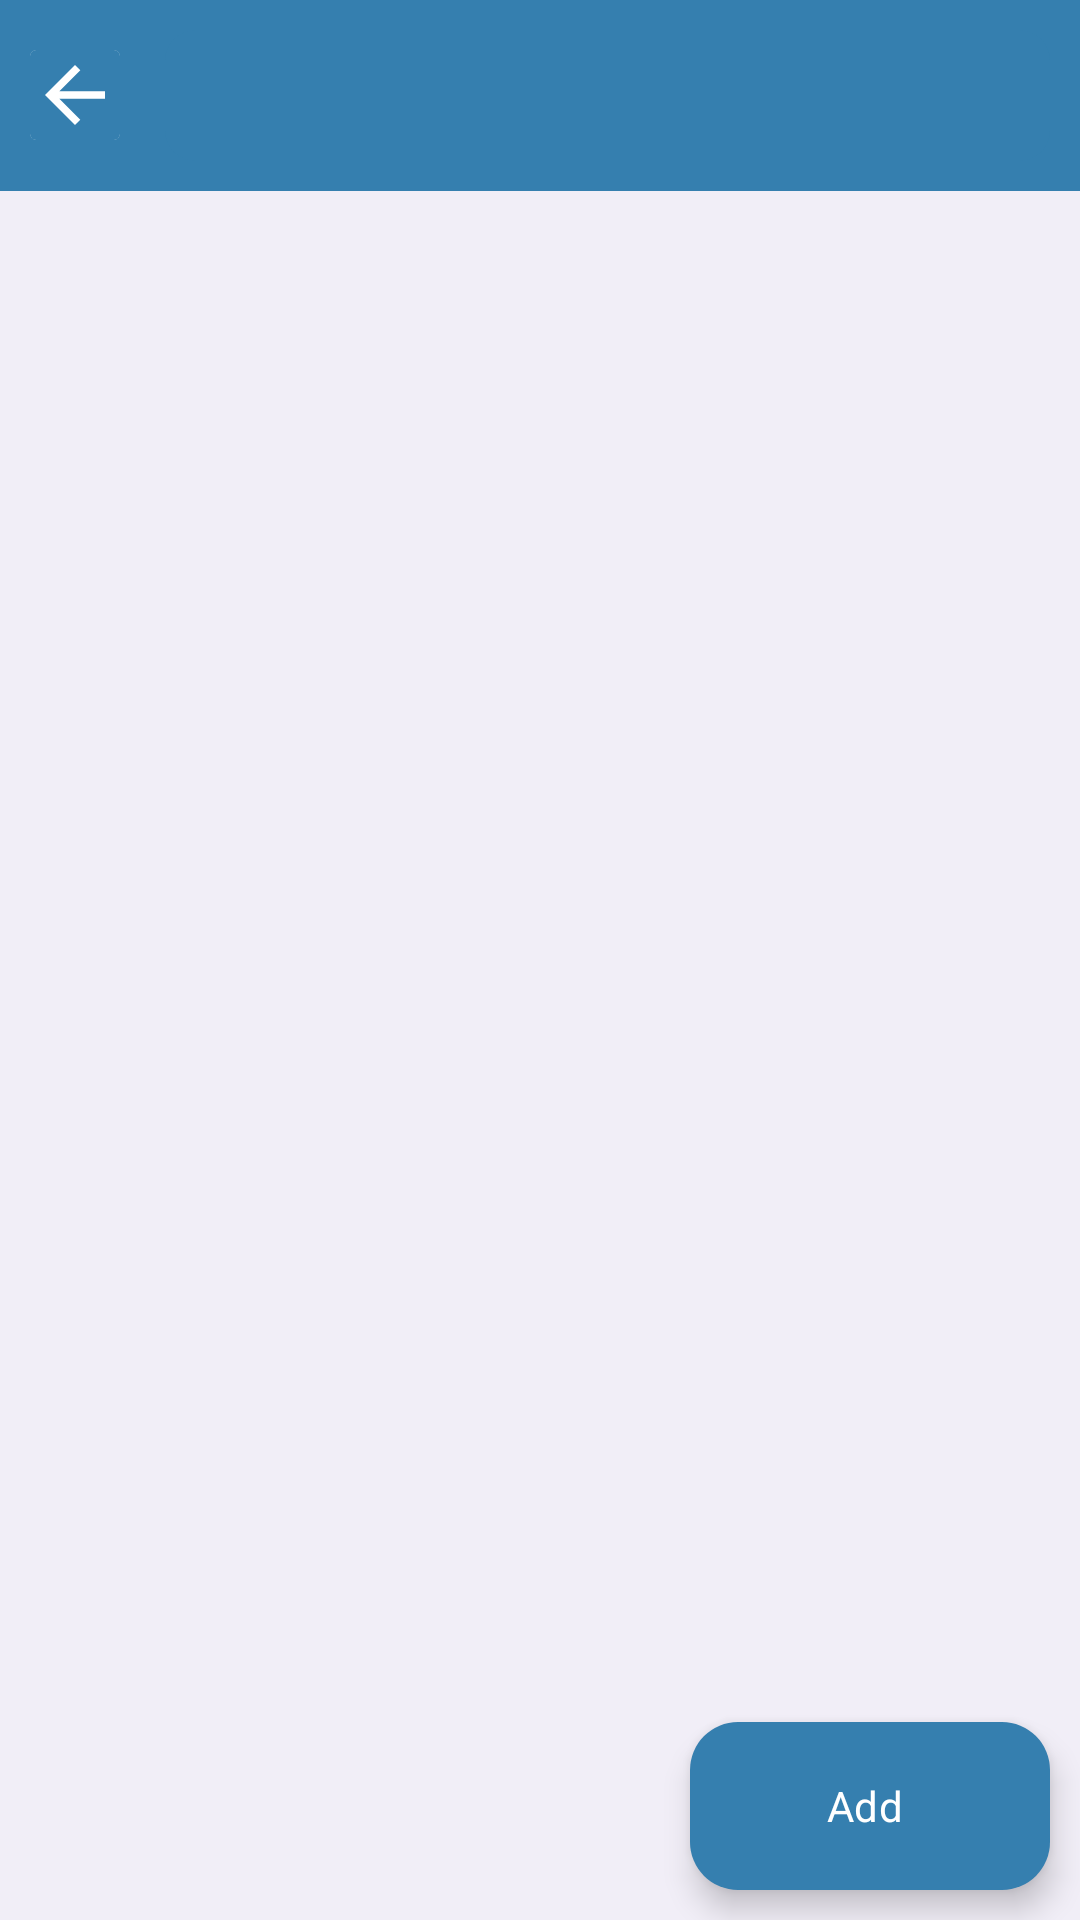

Named icons in this screenshot (1080x1920) and their centers, (x,y):
arrow back: (75,95)
